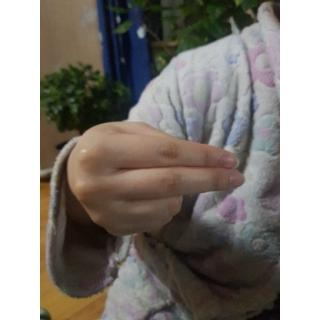AYN: (64, 114, 250, 240)
